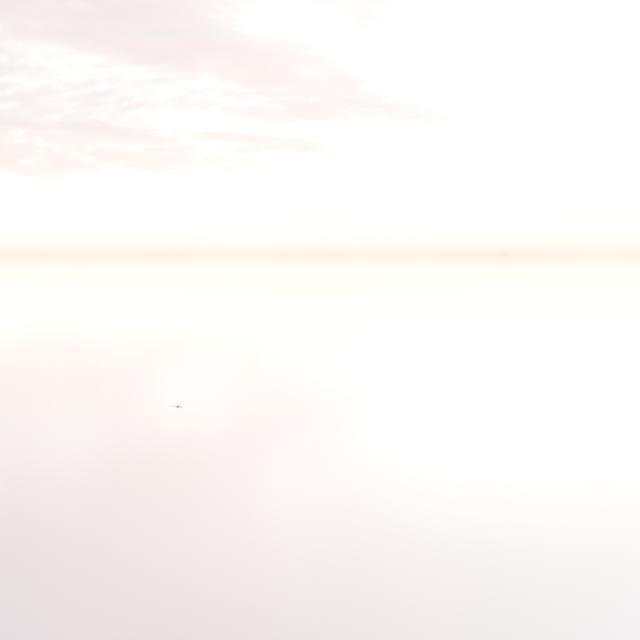Airaplan: (170, 405, 183, 409)
